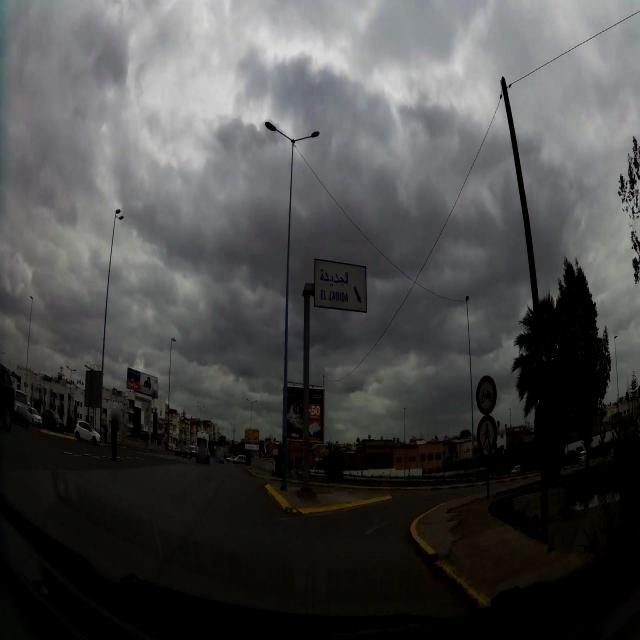car: (74, 419, 101, 446), (41, 406, 66, 434), (15, 399, 33, 428), (196, 434, 210, 464), (510, 464, 524, 476), (234, 454, 247, 466), (579, 449, 587, 465), (227, 454, 237, 464)
